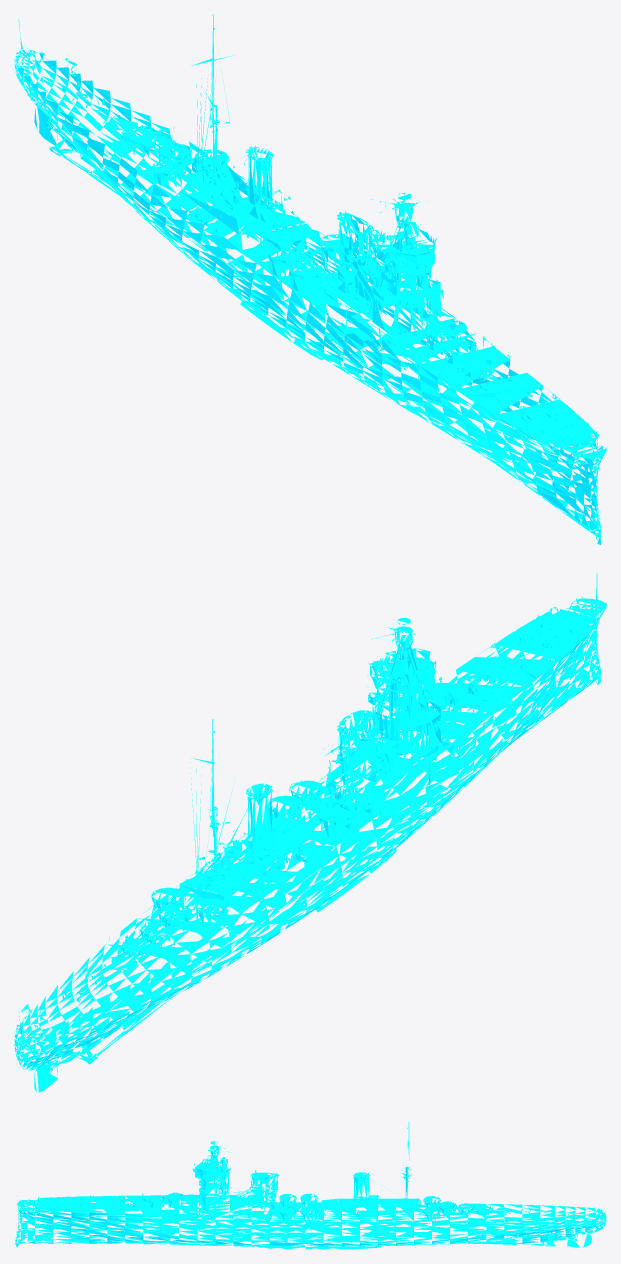
File: Alberico_da_Barbiano.glb
The picture shows the model from 3 angles, top to bottom: view 1: azimuth 30°, elevation 25°; view 2: azimuth 150°, elevation 25°; view 3: azimuth 270°, elevation 25°; orthographic projection. The views are drawn at different scales.
Size of the model in its own units: 1.04 by 2.66 by 11.31.
